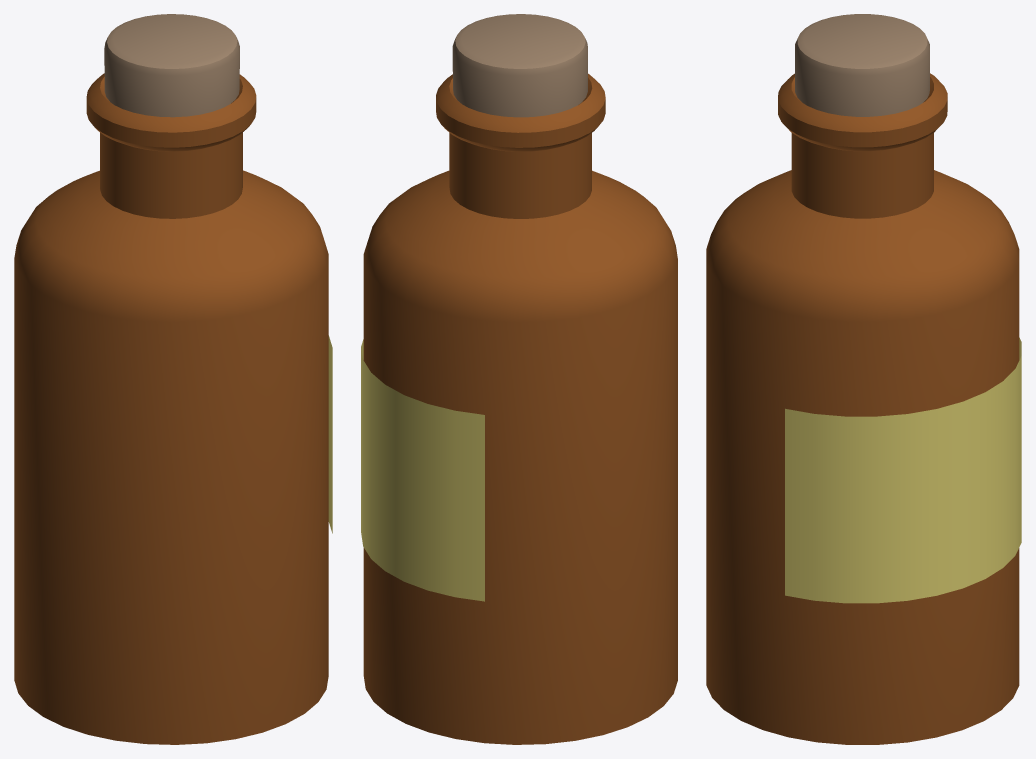
File: frasco_1.fbx
3 renders of one model, left to right at view 1: azimuth 30°, elevation 25°; view 2: azimuth 150°, elevation 25°; view 3: azimuth 270°, elevation 25°, orthographic.
Visible parts, largest first — view 1: Cylinder.001; view 2: Cylinder.001; view 3: Cylinder.001.
Part boxes in pixels (box(x1,y1,x2,y2)): Cylinder.001: box(14, 14, 332, 744); Cylinder.001: box(361, 14, 677, 744); Cylinder.001: box(706, 14, 1021, 744).
Bounding box in the file's own units: 13.97 × 31.18 × 13.93.
